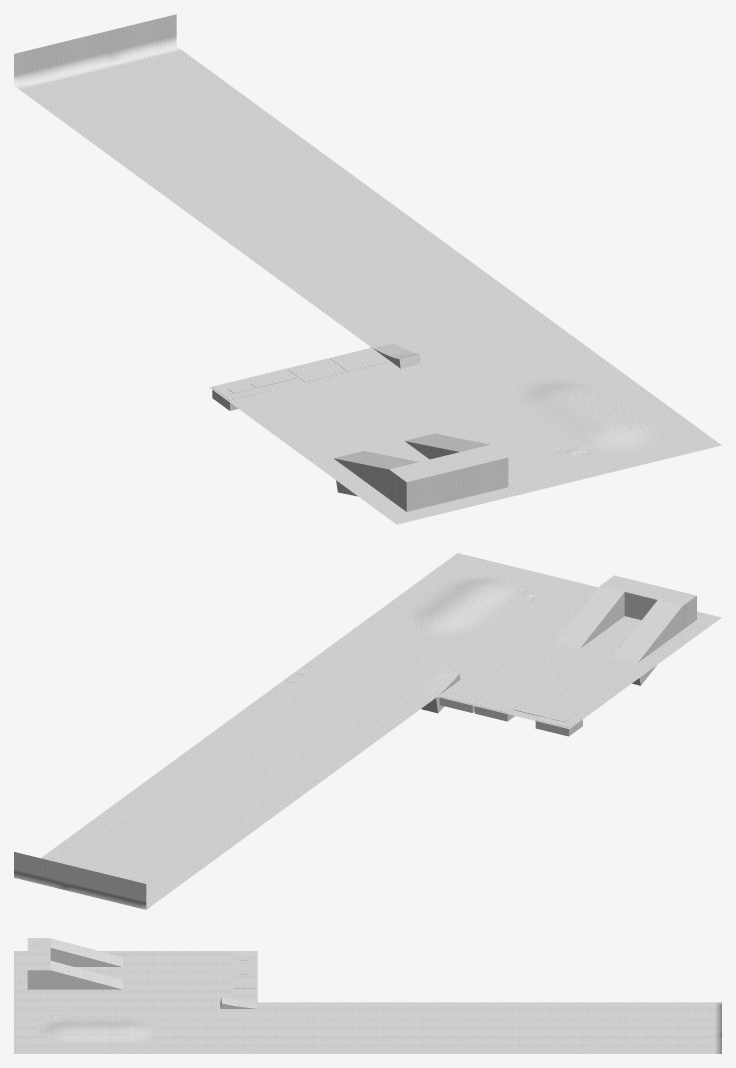
File: testScene_V.fbx
3 renders of one model, top to bottom at view 1: azimuth 30°, elevation 25°; view 2: azimuth 150°, elevation 25°; view 3: azimuth 270°, elevation 25°, orthographic. The views are drawn at different scales.
Visible parts, largest first — view 1: Plane_26, Plane_16, Plane_17, Plane_15, Plane_20; view 2: Plane_26, Plane_17, Plane_15, Plane_16, Plane_24, Plane_23, Plane_20, Plane_18; view 3: Plane_26, Plane_15, Plane_17, Plane_16, Plane_18, Plane_24, Plane_23, Plane_20.
Boxes of the visible parts, x1,y1,x2,y2 form: Plane_26: (14,14,721,524); Plane_16: (389,444,508,511); Plane_17: (334,451,418,498); Plane_15: (405,433,489,459); Plane_20: (212,377,270,410); Plane_26: (14,553,721,909); Plane_17: (612,600,682,685); Plane_15: (555,586,624,649); Plane_16: (600,575,696,629); Plane_24: (474,694,521,721); Plane_23: (439,686,486,712); Plane_20: (535,709,582,736); Plane_18: (421,669,460,713); Plane_26: (14,951,721,1053); Plane_15: (50,961,122,989); Plane_17: (50,938,122,966); Plane_16: (27,938,50,989); Plane_18: (220,997,256,1008); Plane_24: (233,975,255,988); Plane_23: (233,988,255,1001); Plane_20: (233,951,255,964).
Size of the model in its own units: 15998 by 2951 by 46494.
